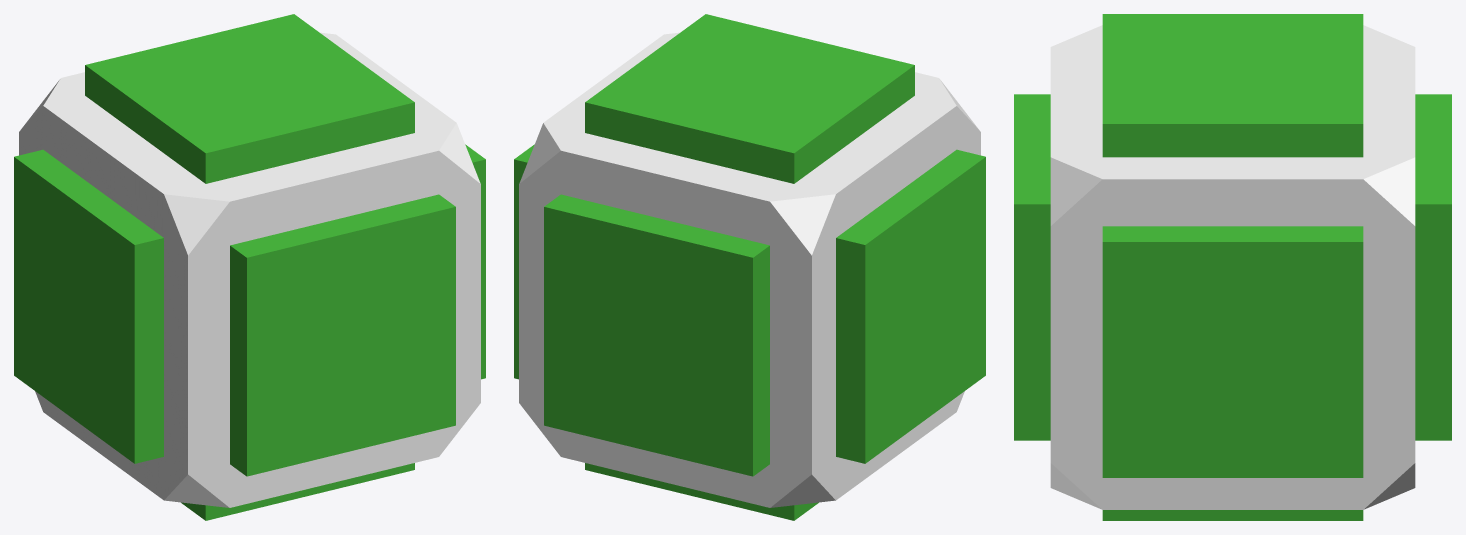
Rendered from Dice.fbx.
The picture shows the model from 3 angles, left to right: view 1: azimuth 30°, elevation 25°; view 2: azimuth 150°, elevation 25°; view 3: azimuth 270°, elevation 25°; orthographic projection. The views are drawn at different scales.
Visible parts, largest first — view 1: Cube; view 2: Cube; view 3: Cube.
Boxes of the visible parts, x1,y1,x2,y2 form: Cube: [14, 14, 485, 520]; Cube: [514, 14, 985, 520]; Cube: [1014, 14, 1451, 520].
Size of the model in its own units: 240 by 240 by 240.
Materials: 1 (1 with a texture image).
